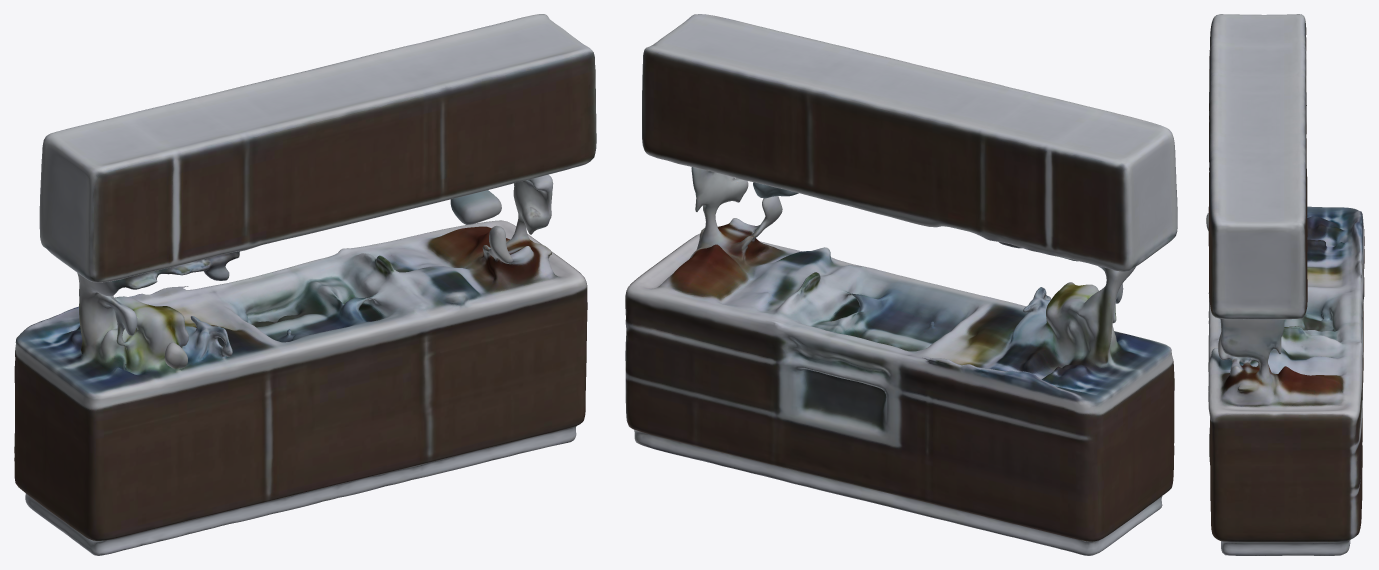
Rendered from a6b6117076c7_kitchen__3d_asset_0.fbx.
The picture shows the model from 3 angles, left to right: view 1: azimuth 30°, elevation 25°; view 2: azimuth 150°, elevation 25°; view 3: azimuth 270°, elevation 25°; orthographic projection. The views are drawn at different scales.
Parts seen in each view (by area): view 1: high_poly; view 2: high_poly; view 3: high_poly.
Boxes of the visible parts, bbox=[...] form: high_poly: bbox=[14, 14, 596, 555]; high_poly: bbox=[625, 14, 1177, 555]; high_poly: bbox=[1206, 14, 1364, 555].
Bounding box in the file's own units: 100 × 73.86 × 31.13.
